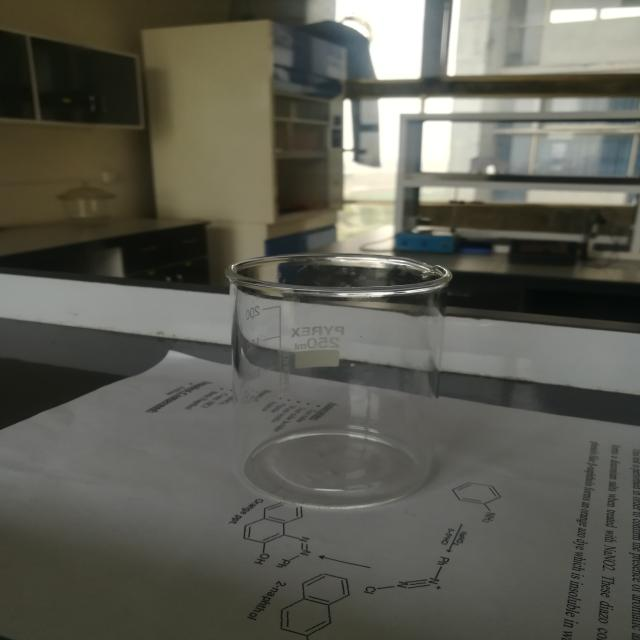Beaker: (177, 210, 481, 540)
